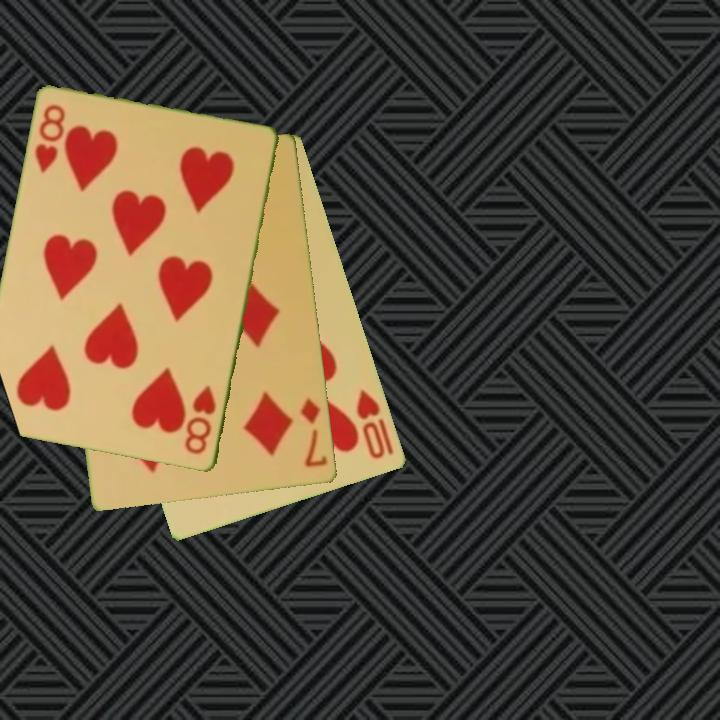10h: (353, 386, 389, 462)
7d: (298, 394, 331, 470)
8h: (31, 101, 69, 176), (182, 382, 219, 458)
